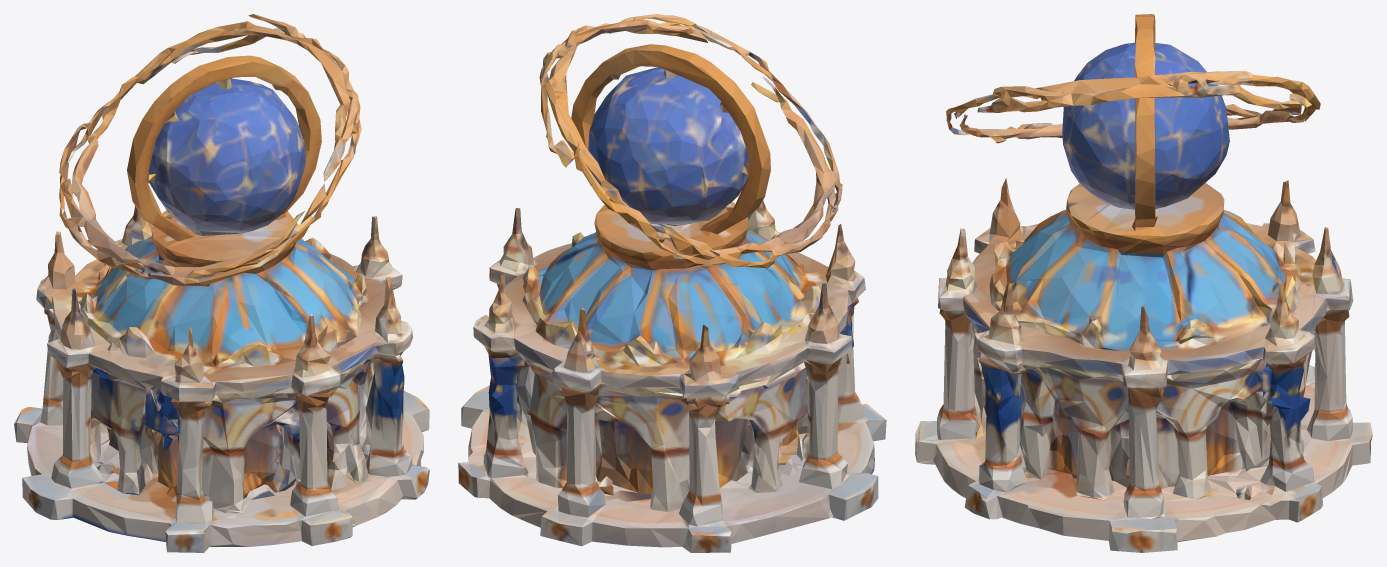
File: heaven_star_observatory_1117.glb
3 views of the same model, side by side, from view 1: azimuth 30°, elevation 25°; view 2: azimuth 150°, elevation 25°; view 3: azimuth 270°, elevation 25° (orthographic). The views are drawn at different scales.
Parts seen in each view (by area): view 1: tmpuebthh2z.ply; view 2: tmpuebthh2z.ply; view 3: tmpuebthh2z.ply.
Boxes of the visible parts, x1,y1,x2,y2 form: tmpuebthh2z.ply: (14, 14, 429, 552); tmpuebthh2z.ply: (458, 14, 886, 552); tmpuebthh2z.ply: (915, 14, 1372, 552).
Bounding box in the file's own units: 1.99 × 1.99 × 1.93.
Materials: 1 (1 with a texture image).
